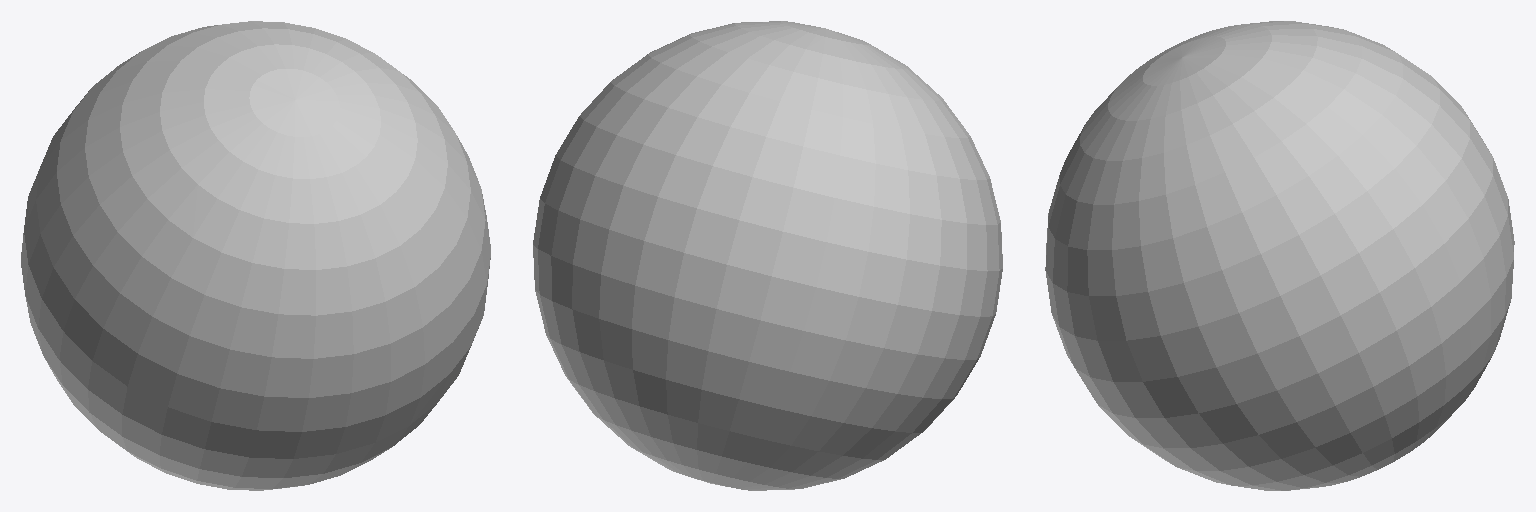
Rendered from Right Elbow.obj.
The picture shows the model from 3 angles: view 1: azimuth 30°, elevation 25°; view 2: azimuth 150°, elevation 25°; view 3: azimuth 270°, elevation 25°; orthographic projection.
Visible parts, largest first — view 1: Right_Elbow_Sphere.028; view 2: Right_Elbow_Sphere.028; view 3: Right_Elbow_Sphere.028.
Boxes of the visible parts, x1,y1,x2,y2 form: Right_Elbow_Sphere.028: [21, 21, 490, 490]; Right_Elbow_Sphere.028: [533, 21, 1002, 490]; Right_Elbow_Sphere.028: [1045, 21, 1514, 490].
Size of the model in its own units: 0.4482 by 0.4499 by 0.4484.